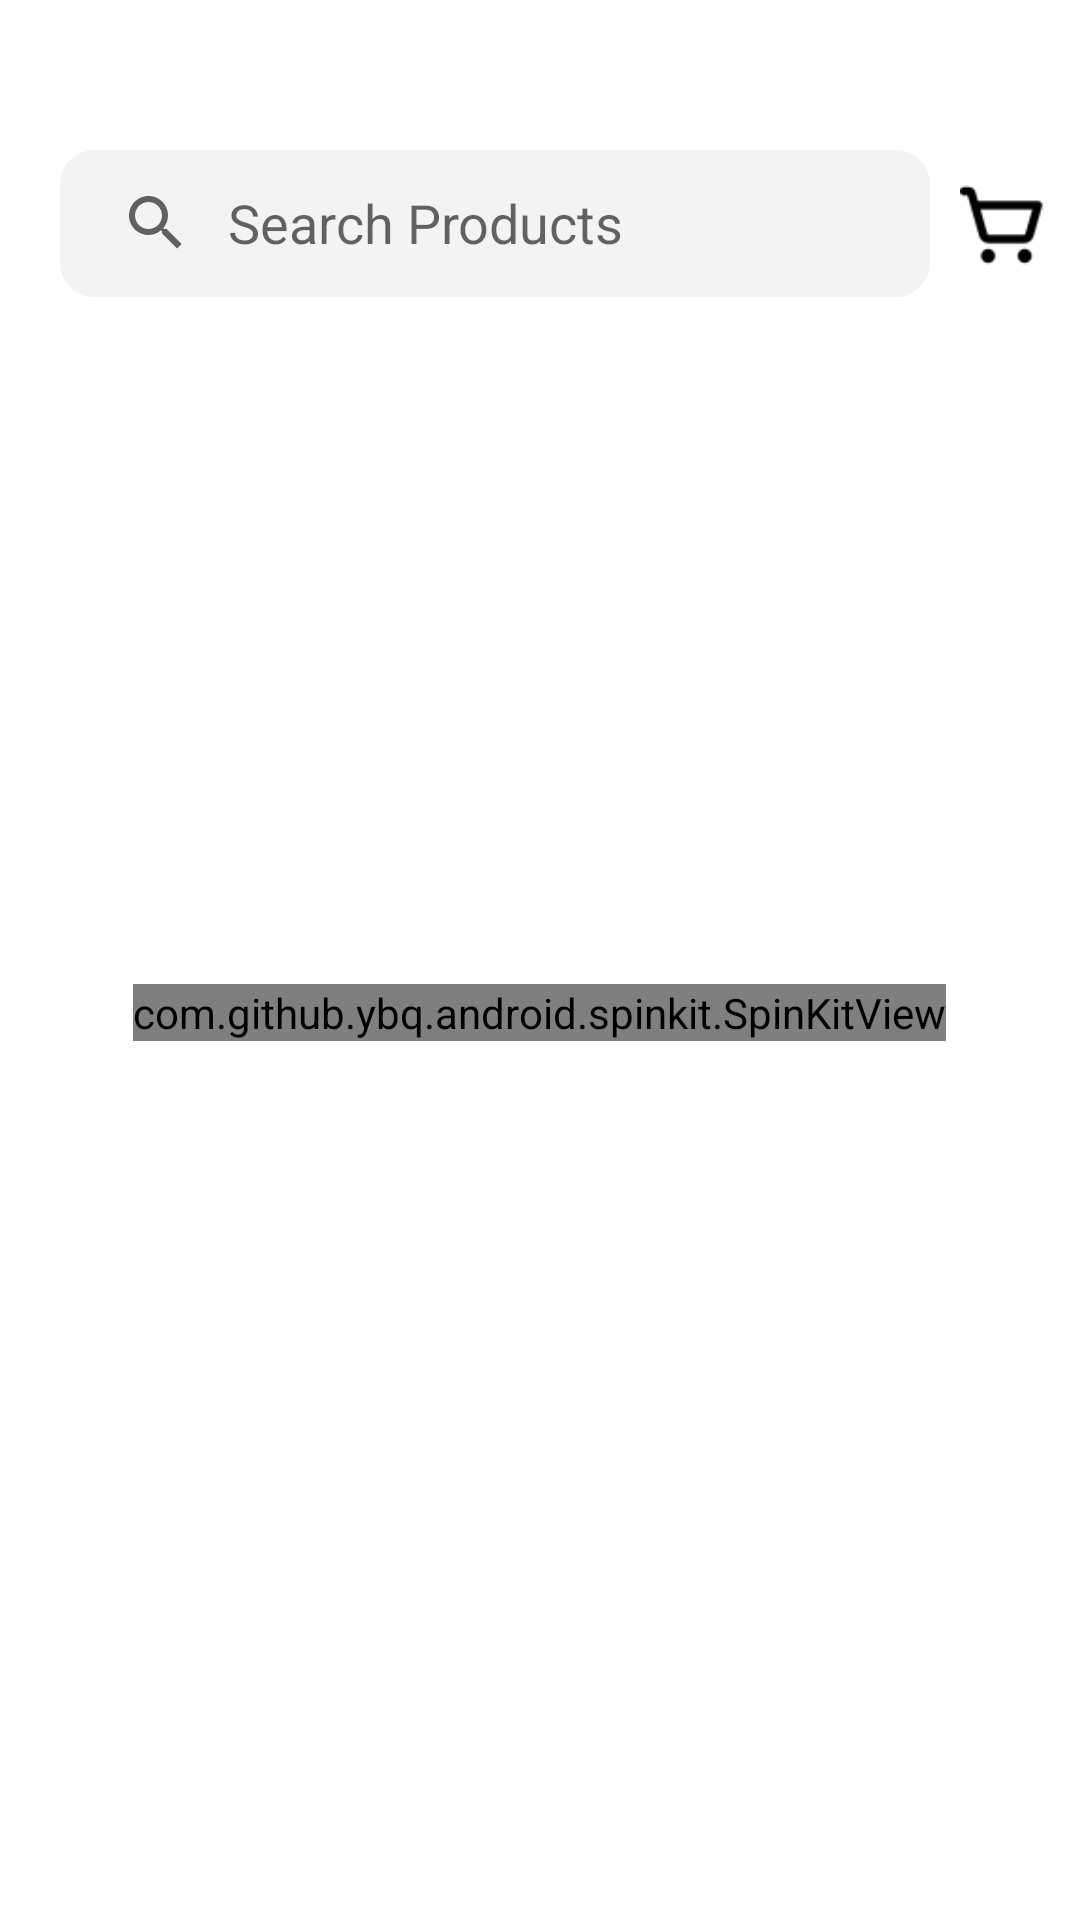

Where to tap for icons on this 1080x1920 app screen, as (x=x, y=y):
shopcart: (x=1001, y=224)
